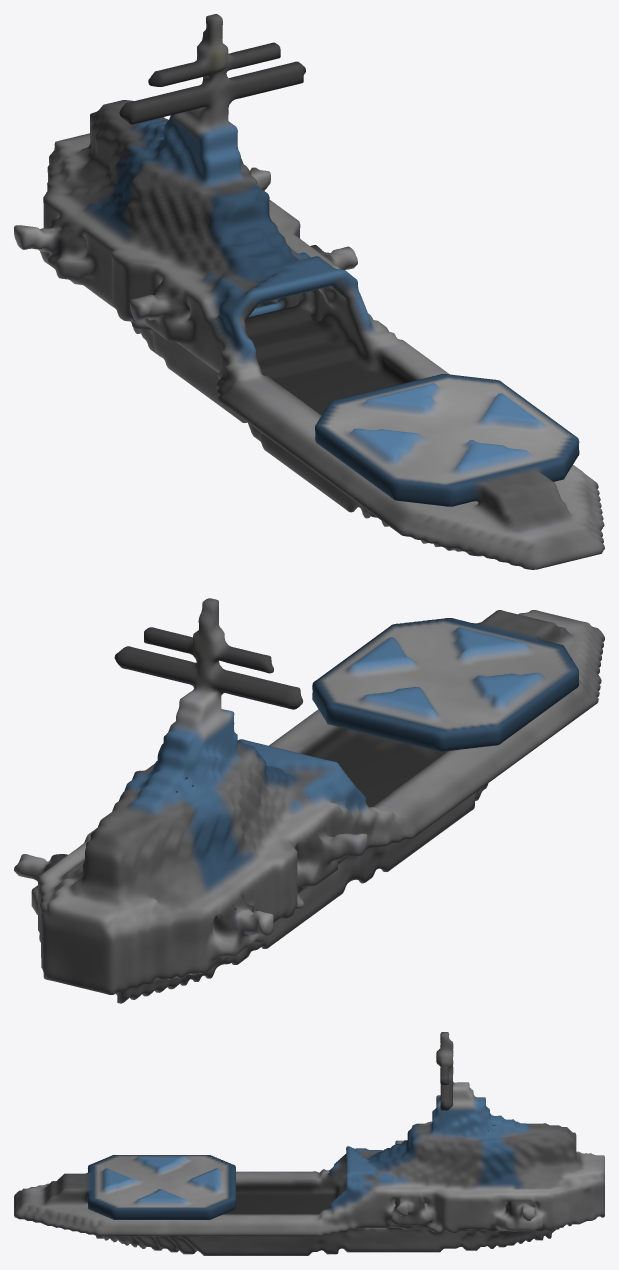
File: carrier.glb
The picture shows the model from 3 angles, top to bottom: view 1: azimuth 30°, elevation 25°; view 2: azimuth 150°, elevation 25°; view 3: azimuth 270°, elevation 25°; orthographic projection. The views are drawn at different scales.
Parts seen in each view (by area): view 1: carrier; view 2: carrier; view 3: carrier.
Part boxes in pixels (x1,y1,x2,y2): carrier: (14,14,604,569); carrier: (14,598,604,1003); carrier: (14,1032,604,1255).
Size of the model in its own units: 3.54 by 4.58 by 11.97.
